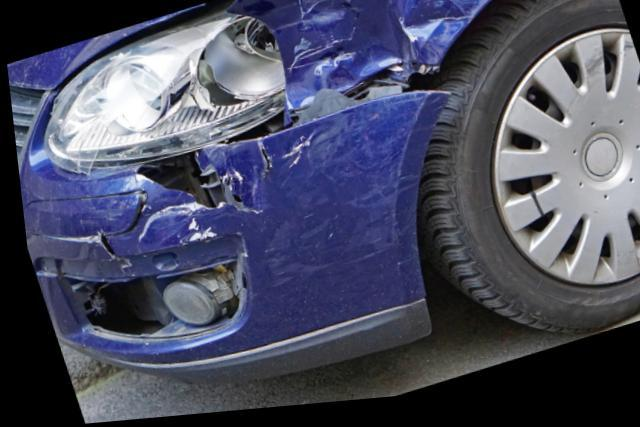crack: (132, 151, 259, 217), (94, 235, 124, 264), (254, 142, 267, 183)
dent: (228, 0, 480, 112)
dislocated part: (218, 73, 437, 151)
lamp broken: (40, 13, 287, 173)
no part: (61, 260, 236, 338)
